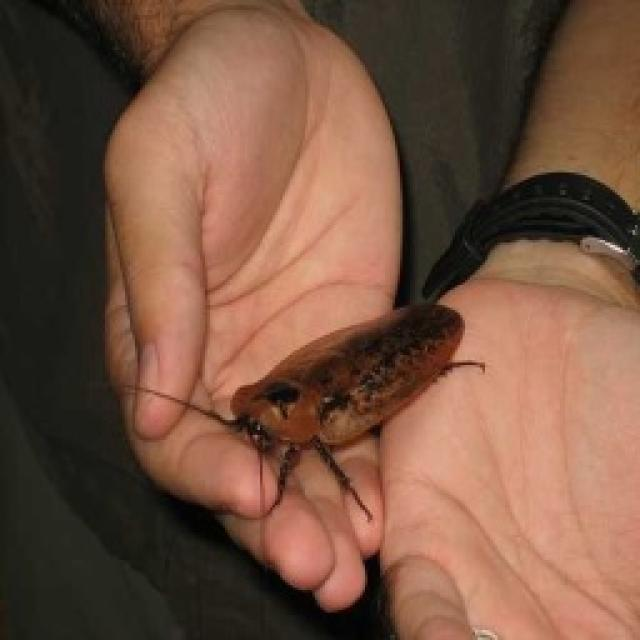cockroach: (224, 299, 488, 525)
